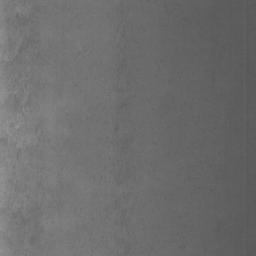Silk spot: (6, 37, 39, 67), (6, 13, 34, 30), (12, 208, 30, 229), (10, 94, 24, 116), (8, 179, 19, 192), (29, 202, 41, 213), (8, 38, 16, 51), (0, 135, 8, 145), (30, 236, 37, 245)
